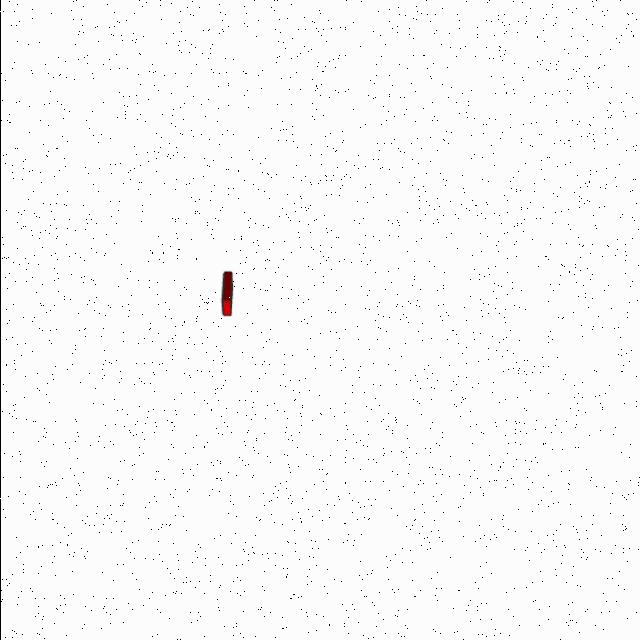3069b: (217, 268, 236, 322)
